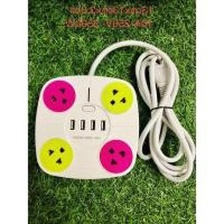three_eye_plug: (33, 73, 140, 180)
